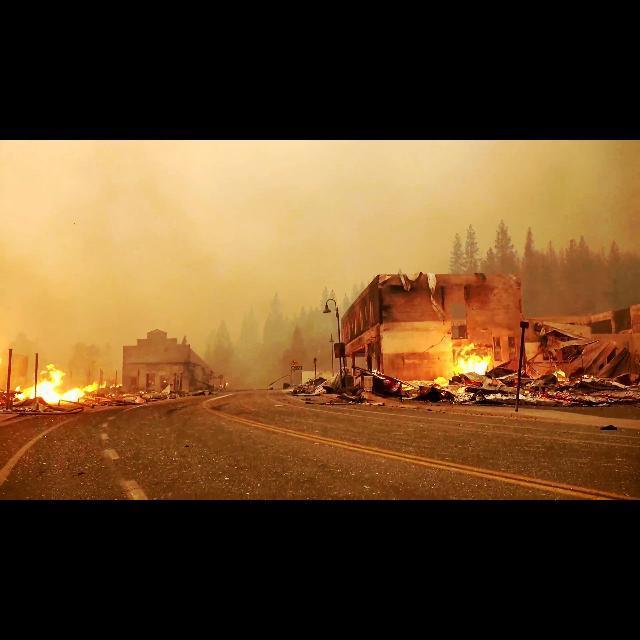Fire: (23, 354, 89, 404), (452, 344, 488, 378)
